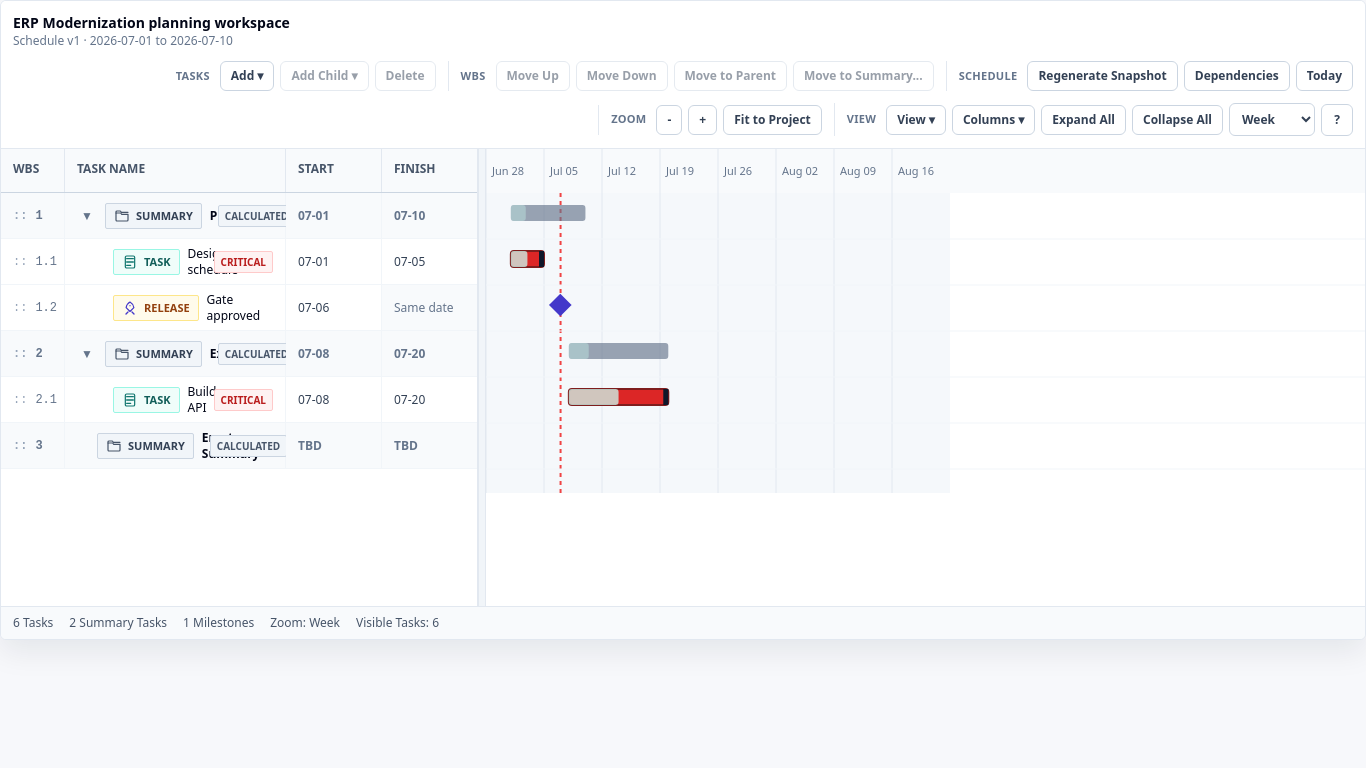
Test: PlanningWorkspace › moves a summary up and refreshes WBS numbering
Click the row named "2 Execution".
click(240, 354)  # box [1, 331, 478, 377]
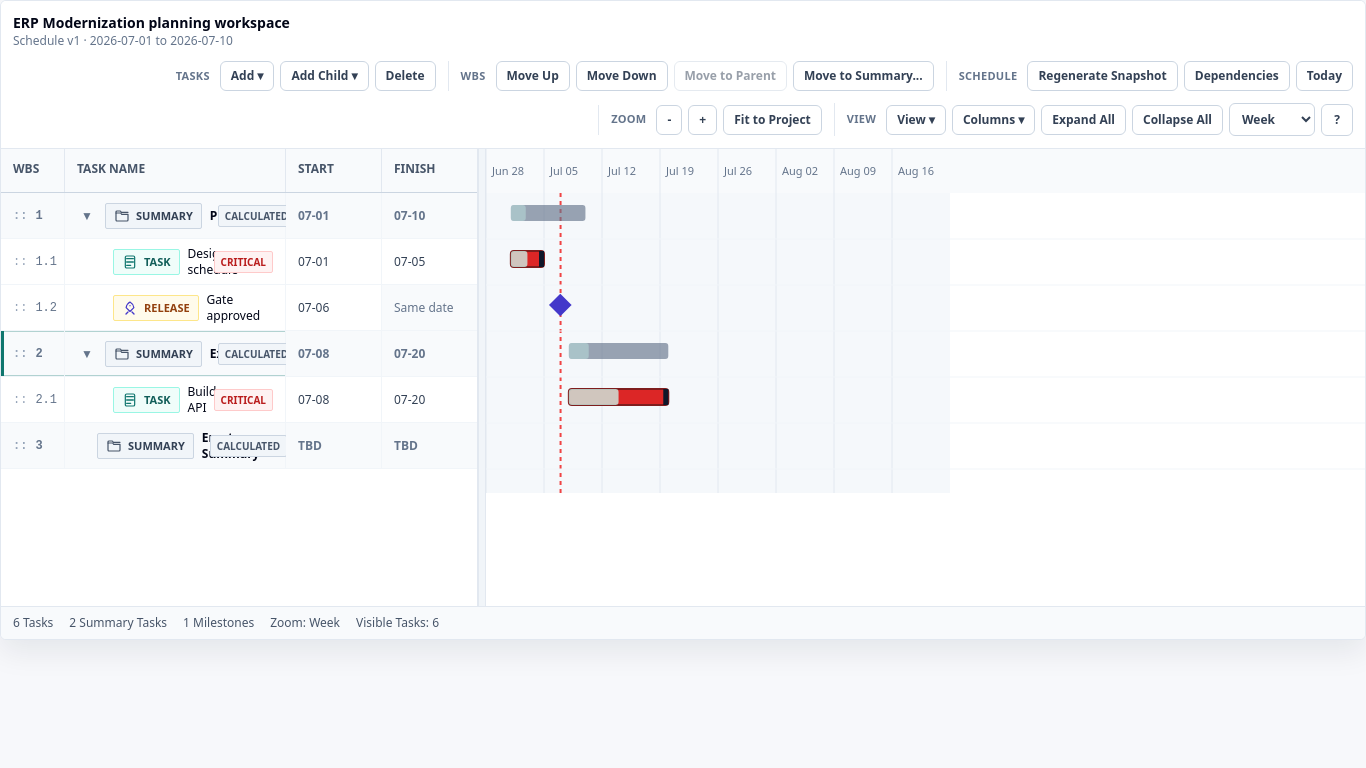
Click the button "Move Up".
click(533, 76)  # box [496, 61, 570, 91]
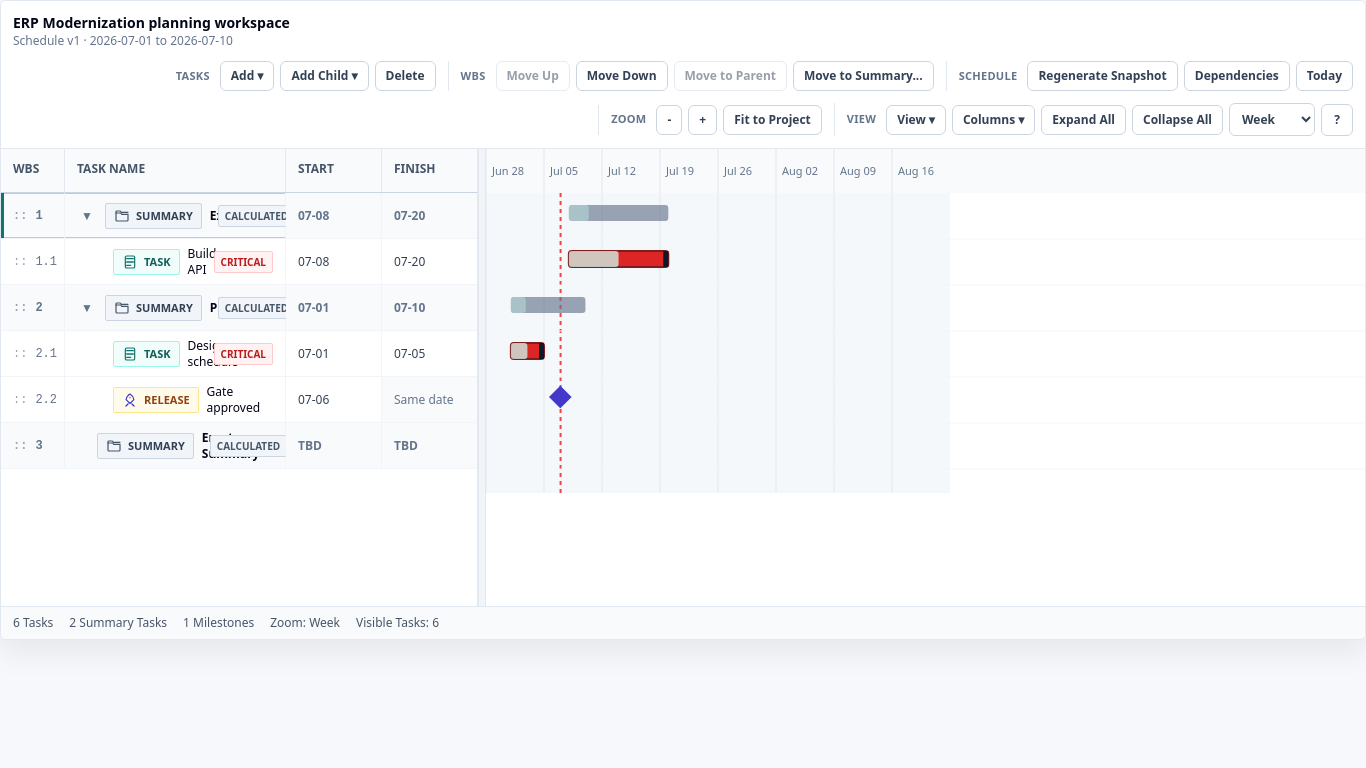
Result: the row named "1 Execution" is shown at [1, 193, 478, 239]
Result: the row named "2 Planning" is shown at [1, 285, 478, 331]
